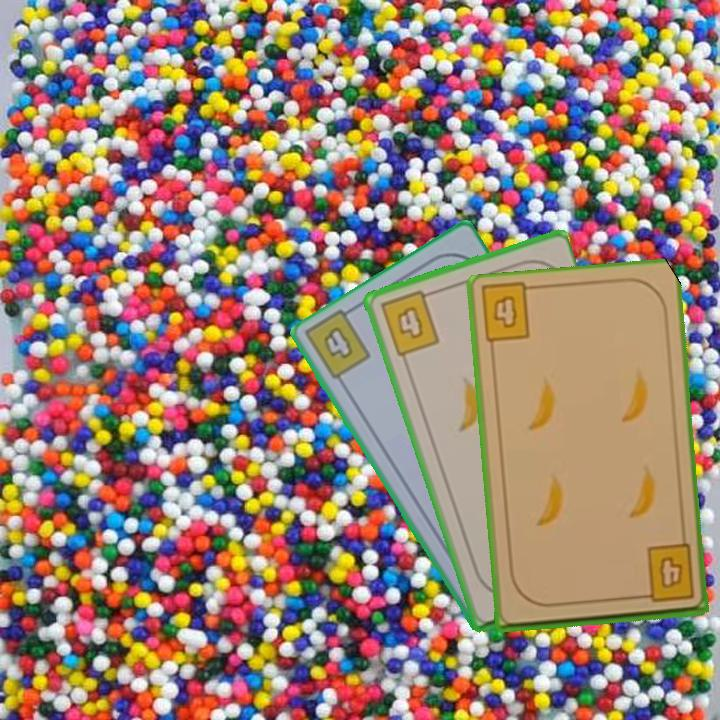4b: (376, 287, 442, 359), (633, 542, 697, 606), (319, 322, 356, 362), (488, 291, 520, 331)
